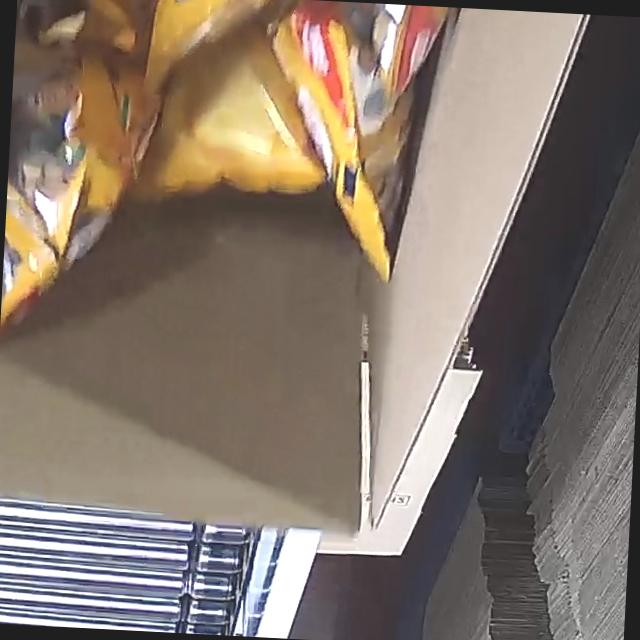cheese: (0, 0, 461, 349)
